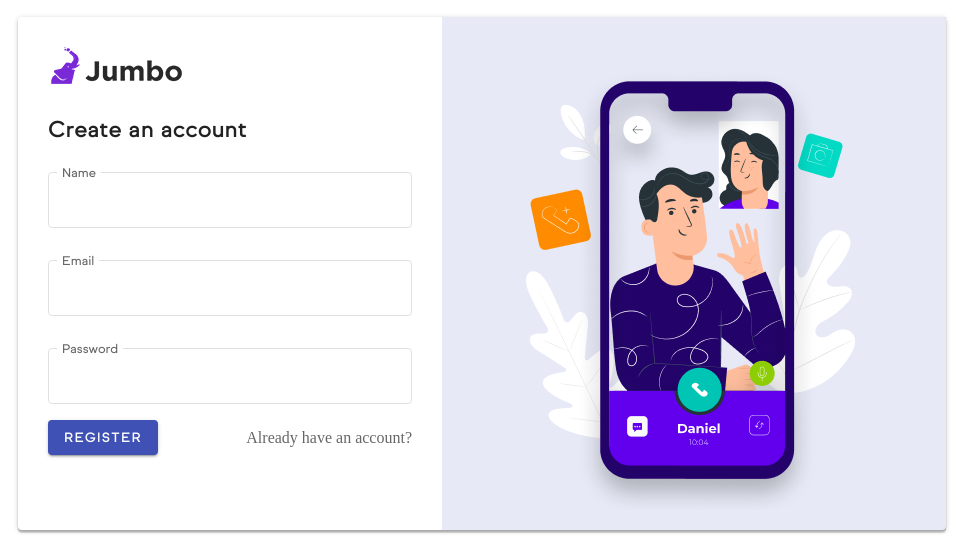
Test: <SignUp /> › shows error when blurring name input
Focus the field with test id "signUp_nameInput" at (230,200), box [48, 172, 412, 228]
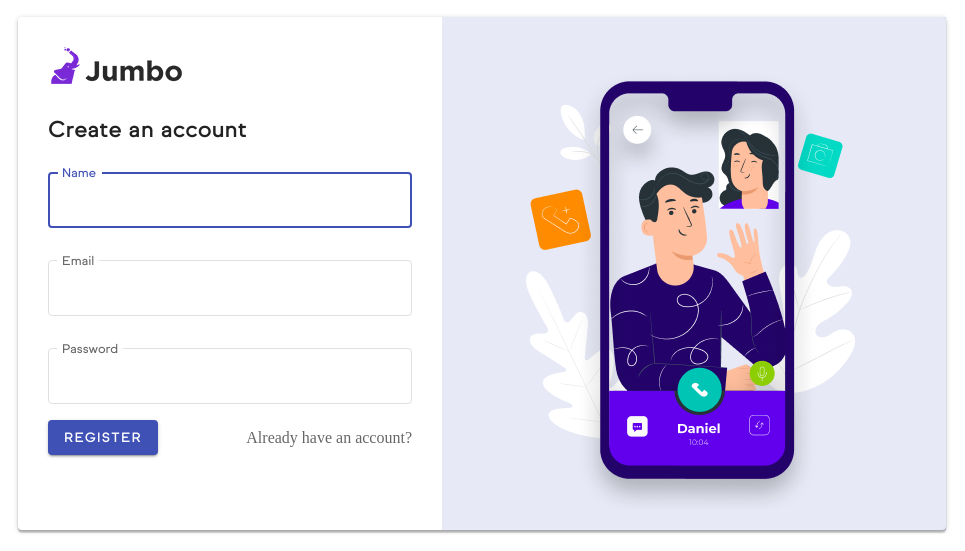
Leave the field with test id "signUp_nameInput", box [48, 172, 412, 228]
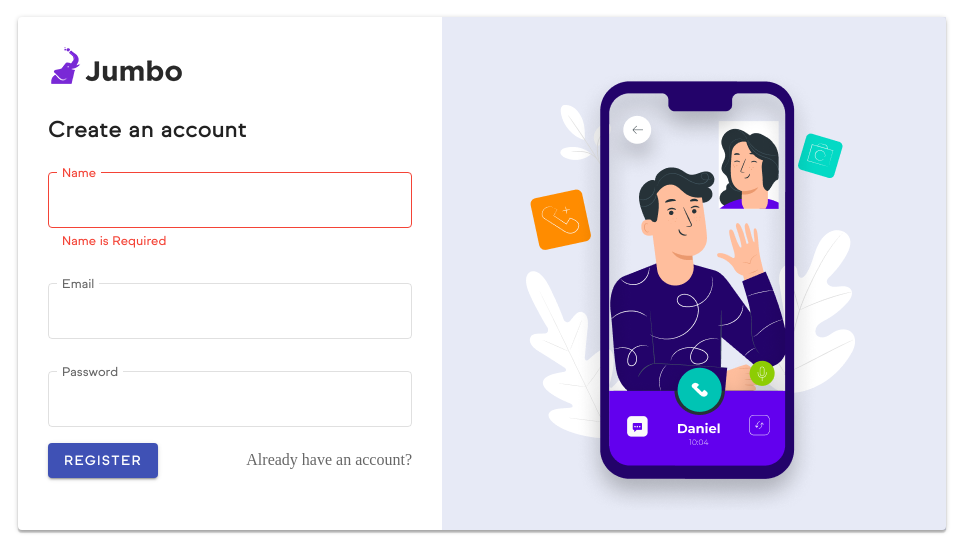
Result: the text "Name is Required" is shown at [62, 233, 166, 248]
